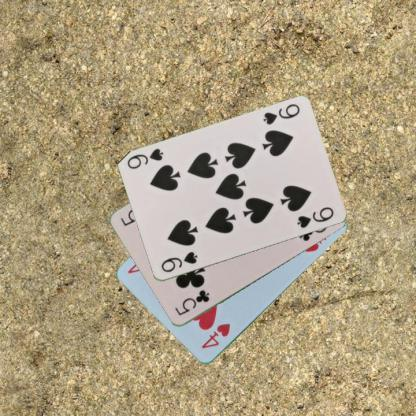4h: (198, 321, 232, 350)
5c: (172, 287, 210, 317)
9s: (158, 249, 199, 274), (260, 102, 301, 127)
